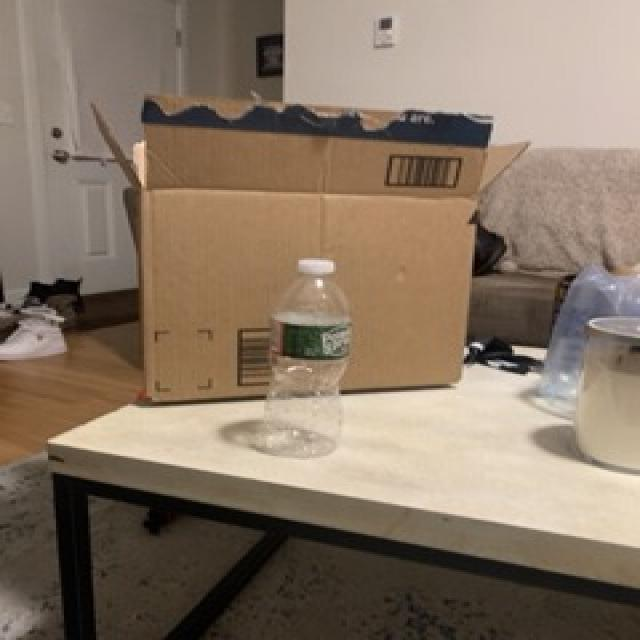water_bottle: (254, 254, 355, 459)
